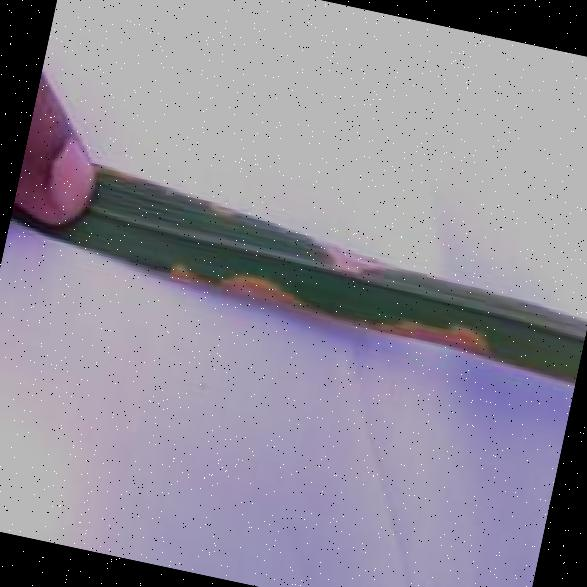Bacteria_Leaf_Blight: (117, 196, 544, 392)
